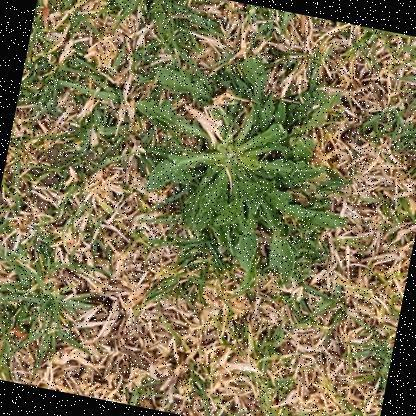Weeds: (110, 36, 375, 296)
